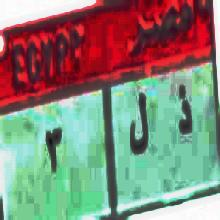3: (45, 122, 66, 170)
laam: (125, 85, 151, 160)
zaal: (172, 87, 199, 142)
